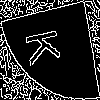K: (25, 25, 68, 68)
